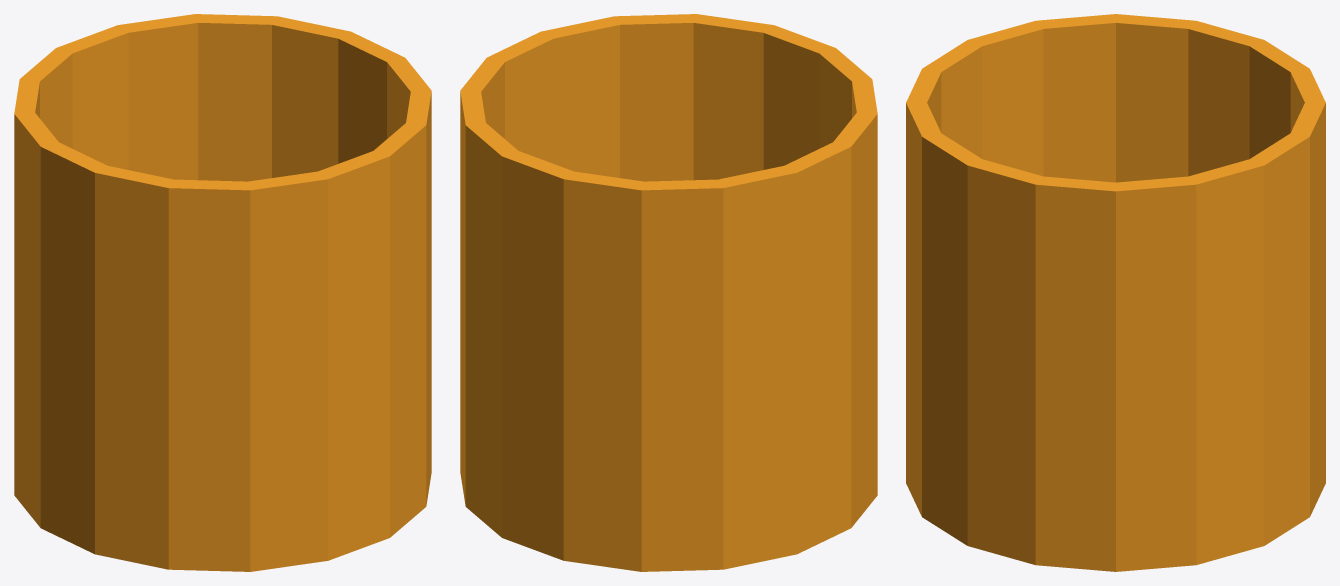
The picture shows the model from 3 angles, left to right: view 1: azimuth 30°, elevation 25°; view 2: azimuth 150°, elevation 25°; view 3: azimuth 270°, elevation 25°; orthographic projection.
Parts seen in each view (by area): view 1: SM_Primitive_Tube_03; view 2: SM_Primitive_Tube_03; view 3: SM_Primitive_Tube_03.
Part boxes in pixels (x1=…): SM_Primitive_Tube_03: x1=14, y1=14, x2=431, y2=571; SM_Primitive_Tube_03: x1=460, y1=14, x2=877, y2=571; SM_Primitive_Tube_03: x1=906, y1=14, x2=1325, y2=571.
Bounding box in the file's own units: 100 × 100 × 100.
